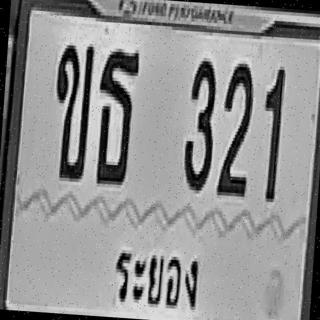A02: (50, 41, 94, 179)
A24: (92, 46, 140, 187)
N01: (258, 66, 285, 202)
N02: (216, 59, 255, 197)
N03: (181, 57, 218, 191)
P53: (103, 230, 211, 312)
